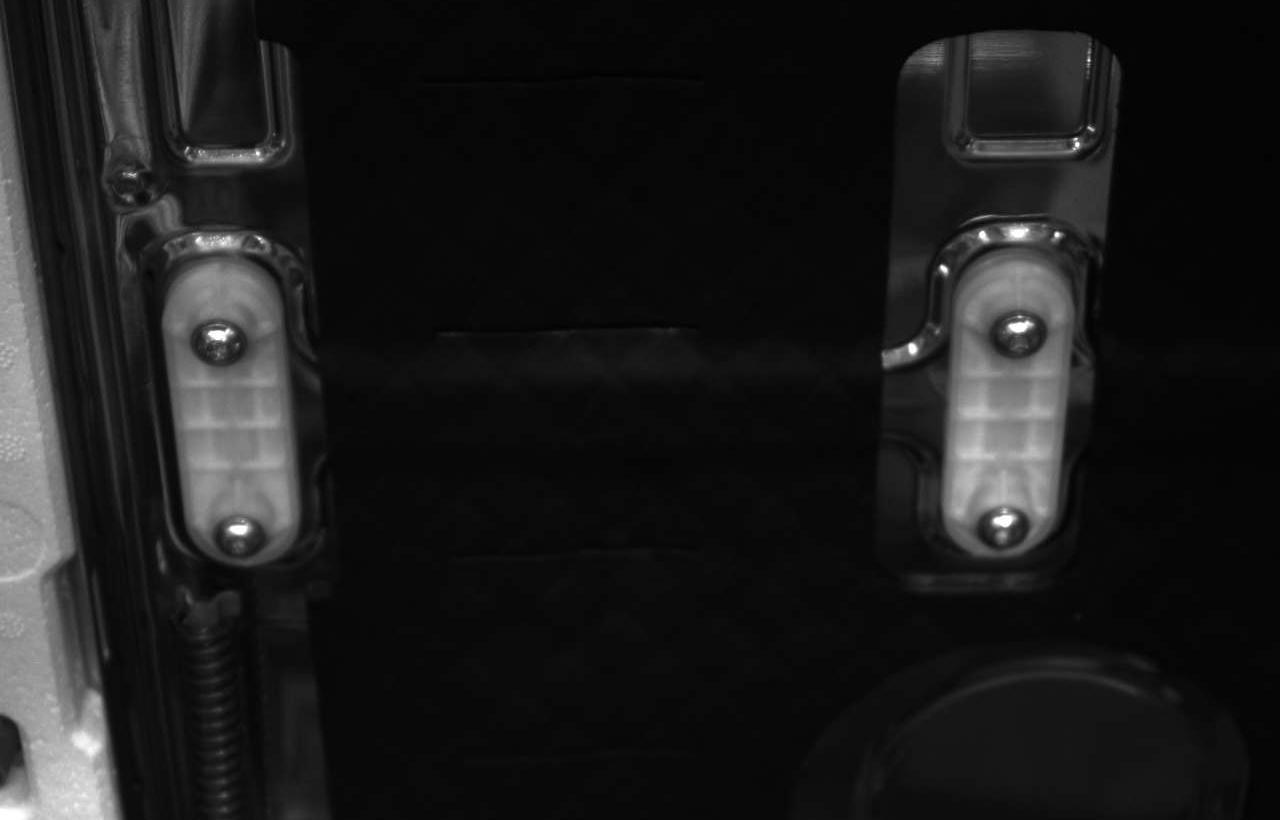vida-ok: (184, 305, 256, 372), (971, 489, 1037, 558), (984, 304, 1051, 371), (210, 504, 276, 562)
